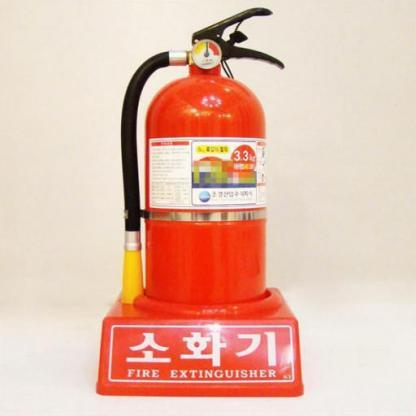Fire Extinguisher: (111, 4, 298, 322)
